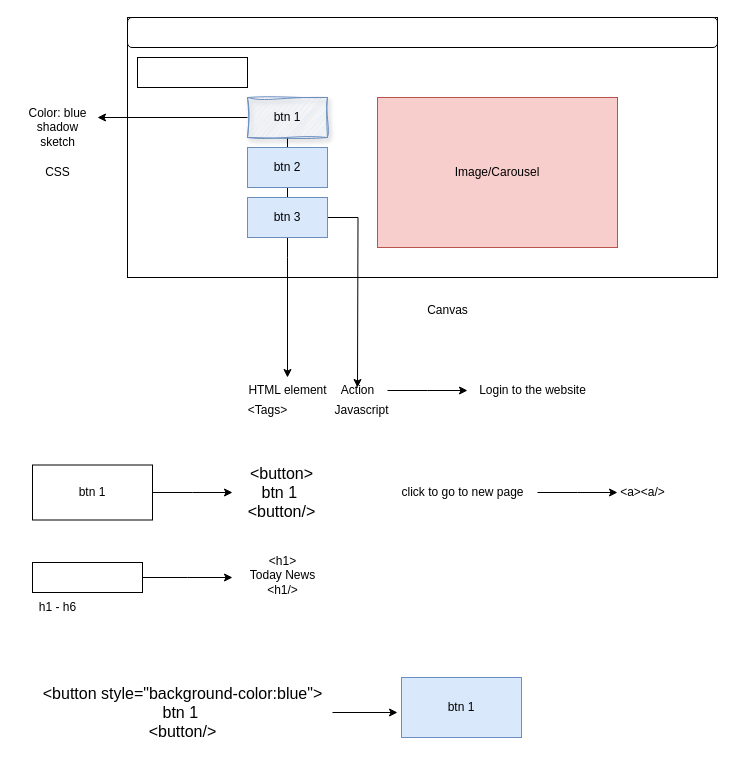
Some shapes in this 735 by 765 pixel diagram are drawn without their labels. Each missing label, with the centre of its shape:
Header: (422,32)
Heading 1: (192,72)
Today News: (87,577)
